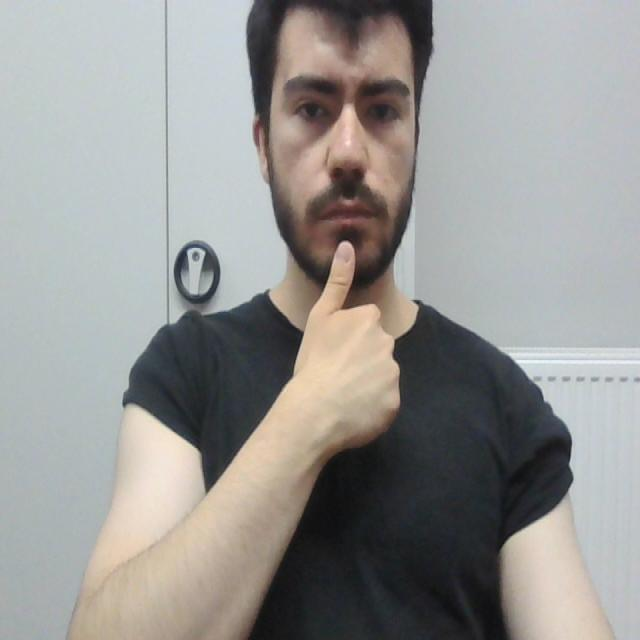Baba: (306, 182, 386, 313)
